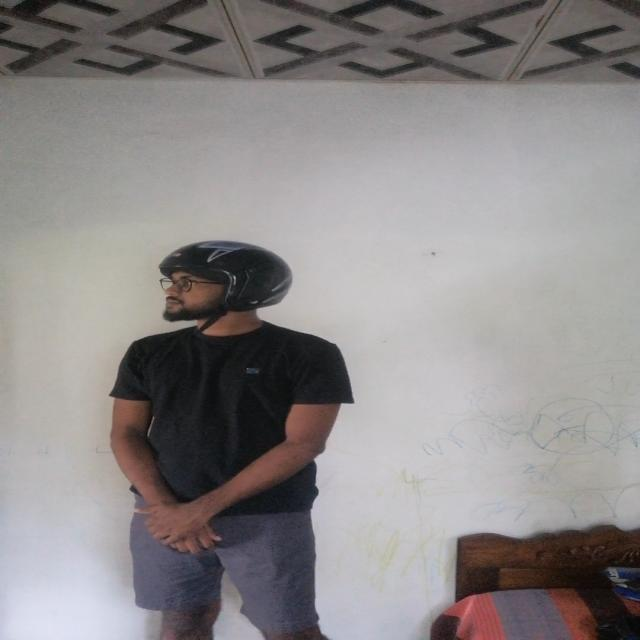Helmet_Wearer: (138, 238, 320, 348)
Person: (110, 239, 362, 640)
